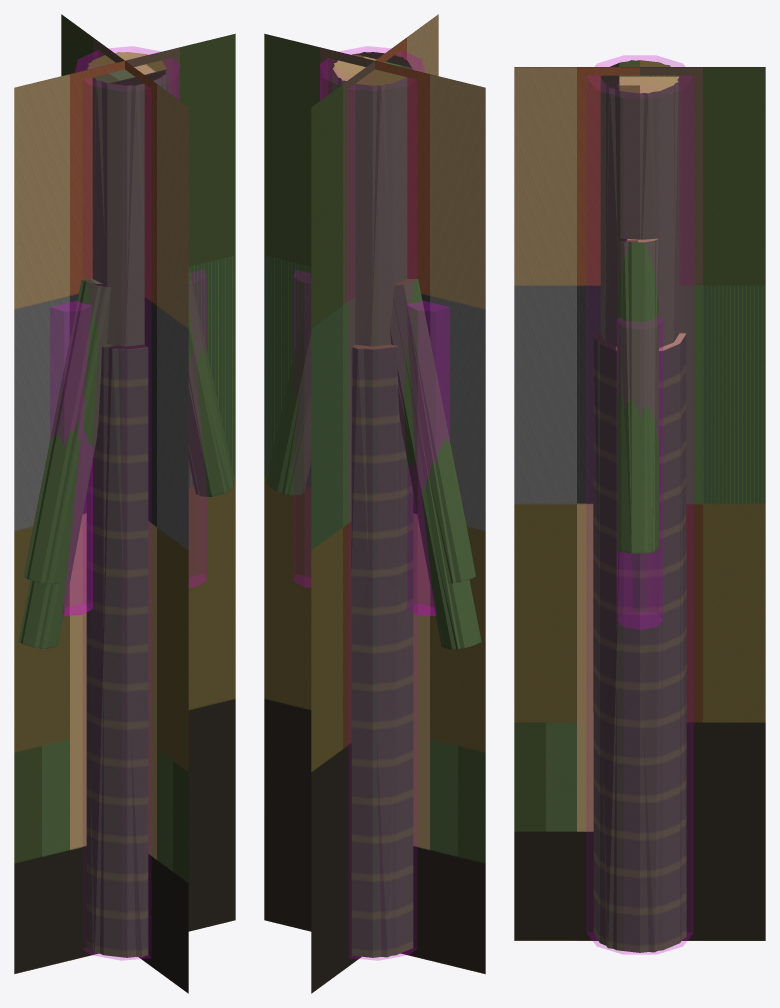
Rendered from saguaro_multi.dae.
3 renders of one model, left to right at view 1: azimuth 30°, elevation 25°; view 2: azimuth 150°, elevation 25°; view 3: azimuth 270°, elevation 25°, orthographic.
Visible parts, largest first — view 1: saguaro_multi_a50, saguaro_multi_a800, Colmesh_trunk-1, saguaro_multi_a200, Colmesh_arm0-1, Colmesh_arm1-1; view 2: saguaro_multi_a50, saguaro_multi_a800, Colmesh_trunk-1, saguaro_multi_a200, Colmesh_arm0-1, Colmesh_arm1-1; view 3: saguaro_multi_a50, Colmesh_trunk-1, saguaro_multi_a800, saguaro_multi_a200, Colmesh_arm1-1.
Part boxes in pixels (x1,y1,x2,y2): saguaro_multi_a50: (14,14,235,993); saguaro_multi_a800: (21,52,234,957); Colmesh_trunk-1: (75,46,179,960); saguaro_multi_a200: (18,52,232,957); Colmesh_arm0-1: (50,301,92,615); Colmesh_arm1-1: (189,270,206,587); saguaro_multi_a50: (264,14,485,993); saguaro_multi_a800: (268,52,478,957); Colmesh_trunk-1: (320,46,424,960); saguaro_multi_a200: (266,52,481,957); Colmesh_arm0-1: (407,301,449,615); Colmesh_arm1-1: (293,270,310,587); saguaro_multi_a50: (514,67,765,940); Colmesh_trunk-1: (587,55,692,954); saguaro_multi_a800: (593,60,686,952); saguaro_multi_a200: (593,60,686,952); Colmesh_arm1-1: (617,316,662,629).
Bounding box in the file's own units: 1.65 × 1.65 × 6.32.
2 materials, 1 textured.
